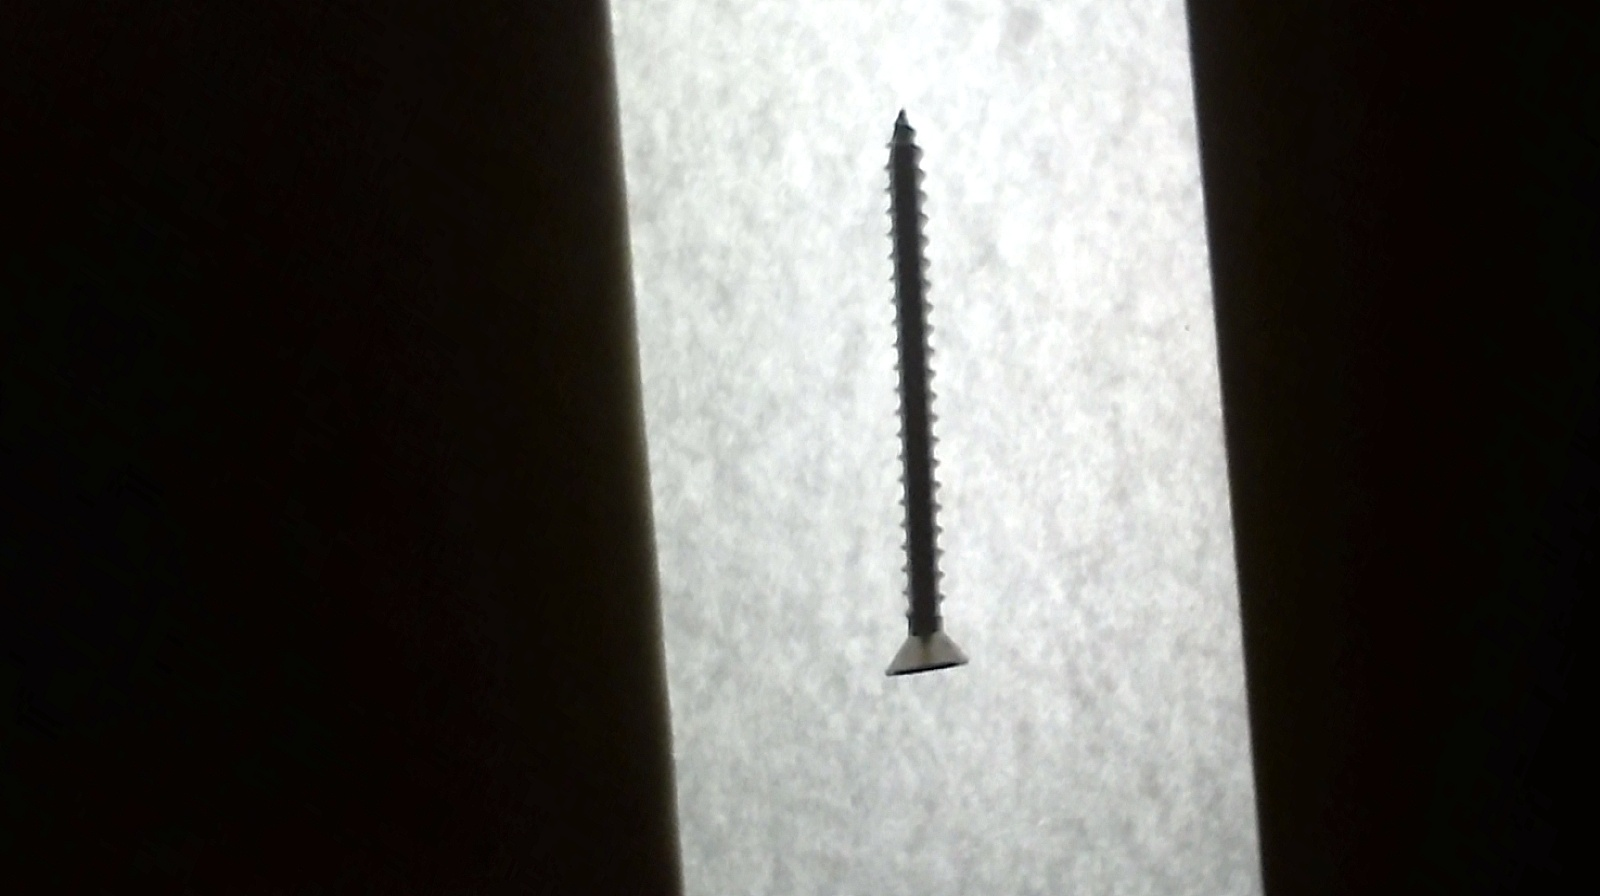S002: (647, 38, 1184, 767)
